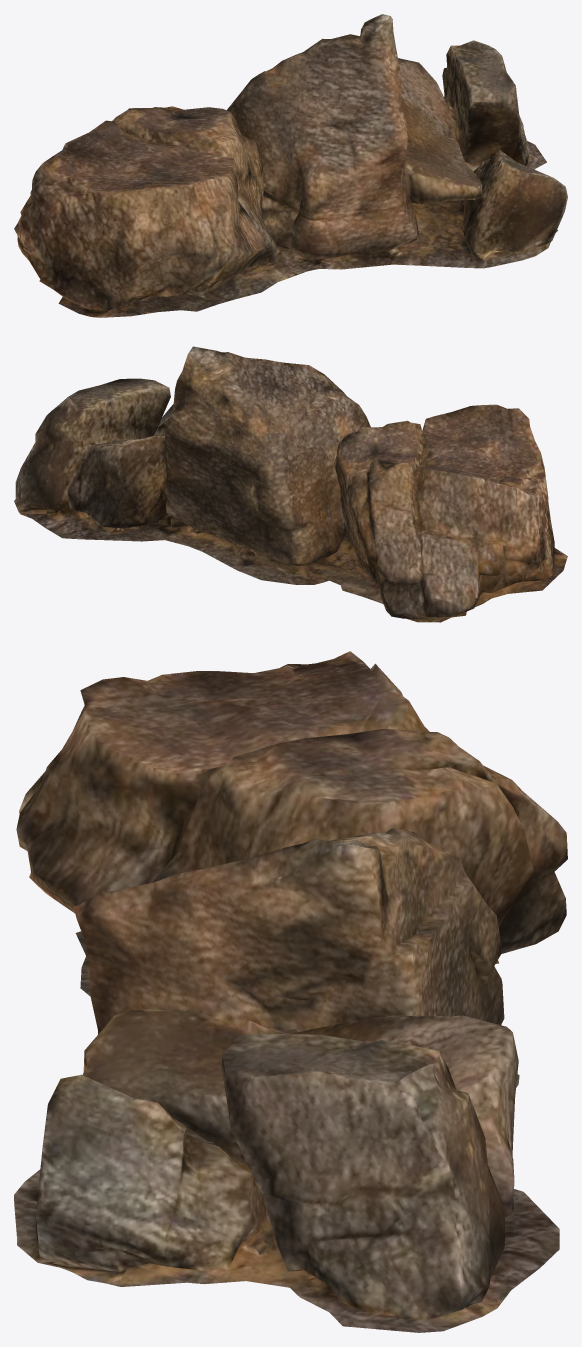
File: namaqualand_boulder_02.glb
3 views of the same model, one above another, from view 1: azimuth 30°, elevation 25°; view 2: azimuth 150°, elevation 25°; view 3: azimuth 270°, elevation 25° (orthographic). The views are drawn at different scales.
Visible parts, largest first — view 1: boulder_02; view 2: boulder_02; view 3: boulder_02.
Part boxes in pixels (x1,y1,x2,y2): boulder_02: (14, 14, 567, 317); boulder_02: (14, 346, 567, 622); boulder_02: (14, 651, 567, 1332).
Bounding box in the file's own units: 2.52 × 0.8788 × 1.23.
Materials: 1 (1 with a texture image).
